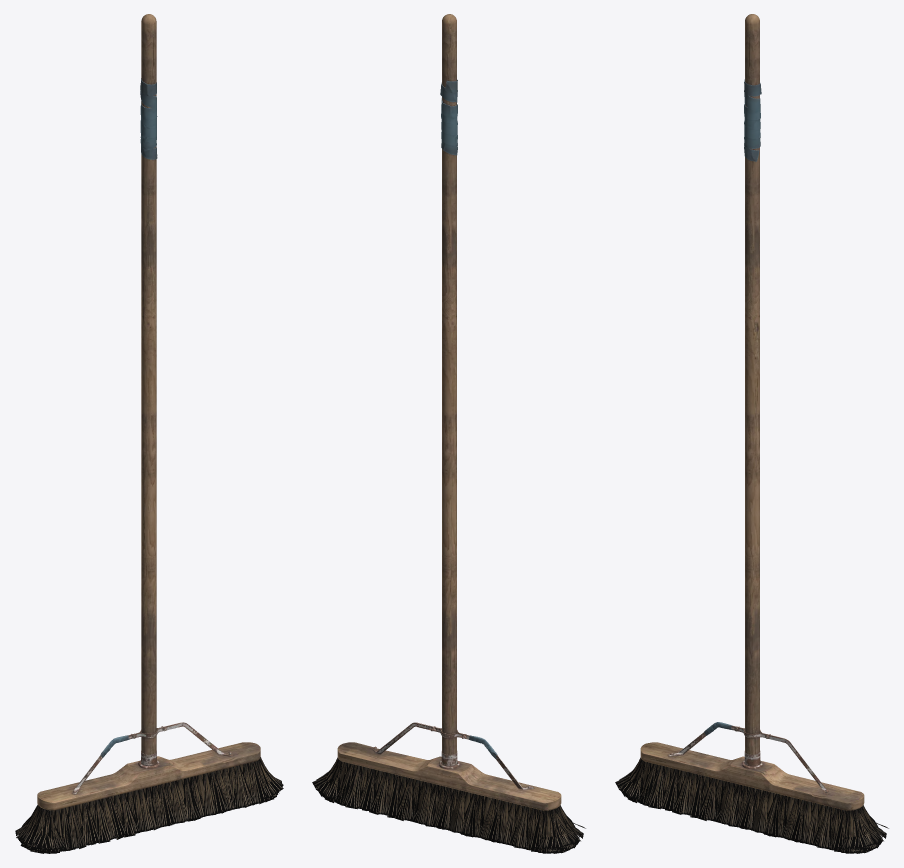
Rendered from wooden_broom.glb.
3 views of the same model, side by side, from view 1: azimuth 30°, elevation 25°; view 2: azimuth 150°, elevation 25°; view 3: azimuth 330°, elevation 25° (orthographic).
Parts seen in each view (by area): view 1: wooden_broom_handle, wooden_broom_bristles; view 2: wooden_broom_handle, wooden_broom_bristles; view 3: wooden_broom_handle, wooden_broom_bristles.
Boxes of the visible parts, x1,y1,x2,y2 form: wooden_broom_handle: (37, 14, 260, 810); wooden_broom_bristles: (15, 757, 283, 853); wooden_broom_handle: (337, 14, 561, 810); wooden_broom_bristles: (312, 757, 585, 853); wooden_broom_handle: (640, 14, 864, 810); wooden_broom_bristles: (615, 757, 888, 853).
Bounding box in the file's own units: 0.4902 × 1.45 × 0.1125.
Materials: 2 (2 with a texture image).
